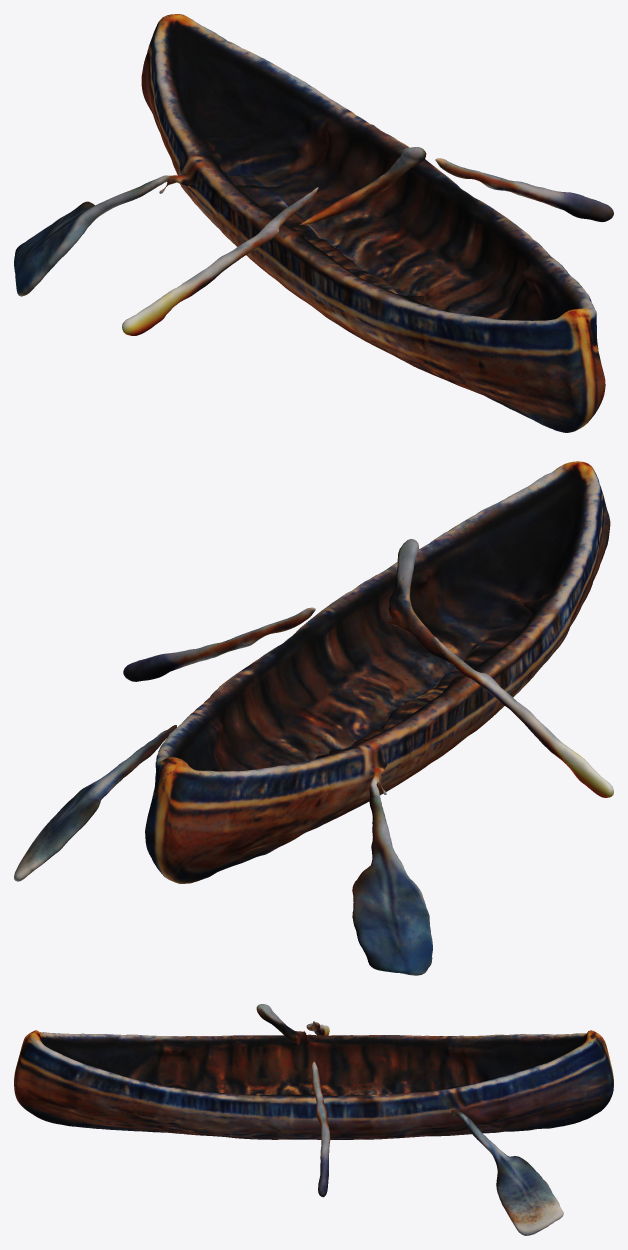
The model's file is 2c1a29e48d4f_a_cidar_strip_canoe.fbx.
The picture shows the model from 3 angles, top to bottom: view 1: azimuth 30°, elevation 25°; view 2: azimuth 150°, elevation 25°; view 3: azimuth 270°, elevation 25°; orthographic projection. The views are drawn at different scales.
Parts seen in each view (by area): view 1: high_poly; view 2: high_poly; view 3: high_poly.
Boxes of the visible parts, bbox=[...] form: high_poly: bbox=[14, 14, 613, 432]; high_poly: bbox=[14, 461, 613, 975]; high_poly: bbox=[14, 1004, 613, 1235].
Size of the model in its own units: 64.91 by 30.59 by 100.
